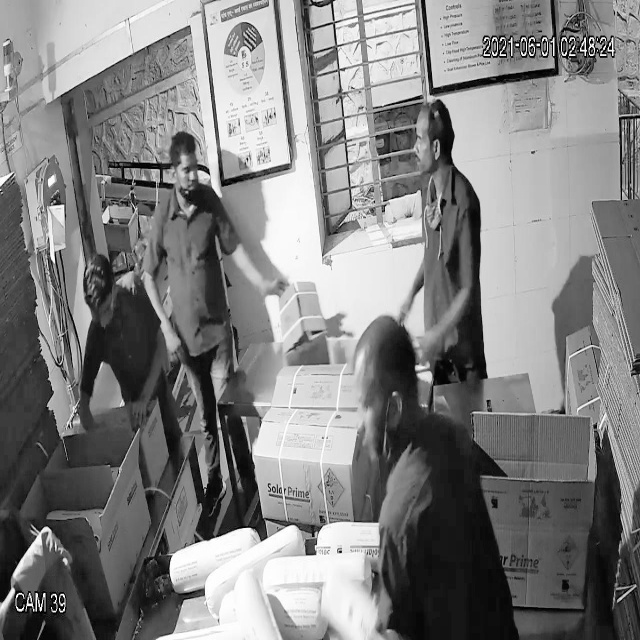Sin_gafas: (164, 155, 207, 188), (410, 122, 449, 157)
